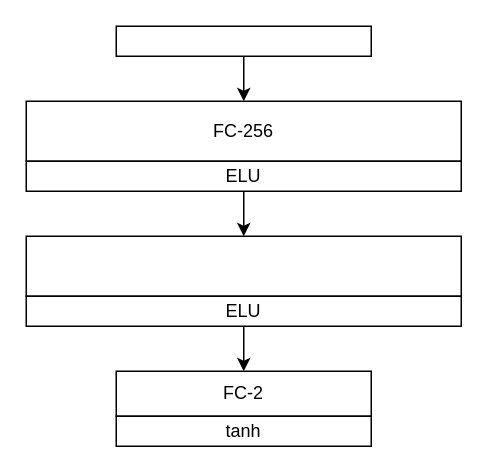
The diagram is 488 pixels wide and 473 high, and some of its shapes have lost their labels. The centre of each missing label's shape, as x and y in pixels:
FC-128: point 243,265
Input 24: point 243,40
